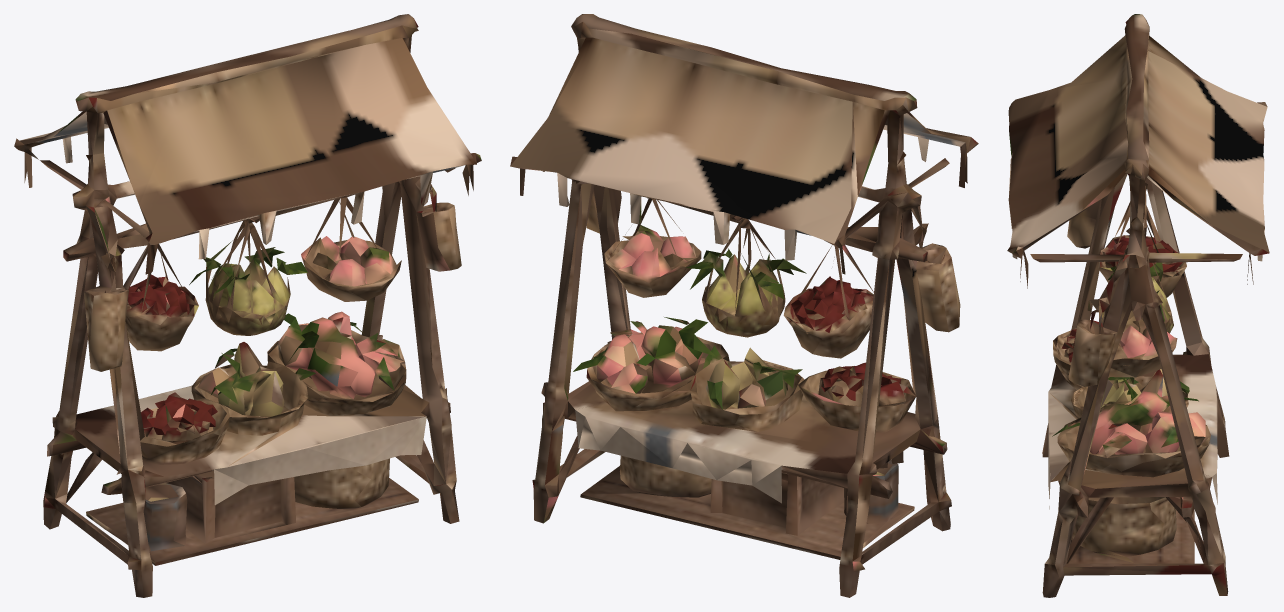
Rendered from 07_Fruit_Hanging_Basket_Stall_LOD2.fbx.
3 renders of one model, left to right at view 1: azimuth 30°, elevation 25°; view 2: azimuth 150°, elevation 25°; view 3: azimuth 270°, elevation 25°, orthographic. The views are drawn at different scales.
Visible parts, largest first — view 1: 07_Fruit_Hanging_Basket_Stall_L2; view 2: 07_Fruit_Hanging_Basket_Stall_L2; view 3: 07_Fruit_Hanging_Basket_Stall_L2.
Boxes of the visible parts, x1,y1,x2,y2 form: 07_Fruit_Hanging_Basket_Stall_L2: (14, 14, 481, 597); 07_Fruit_Hanging_Basket_Stall_L2: (510, 14, 978, 597); 07_Fruit_Hanging_Basket_Stall_L2: (1007, 14, 1269, 597).
Bounding box in the file's own units: 1.98 × 2.4 × 1.31.
